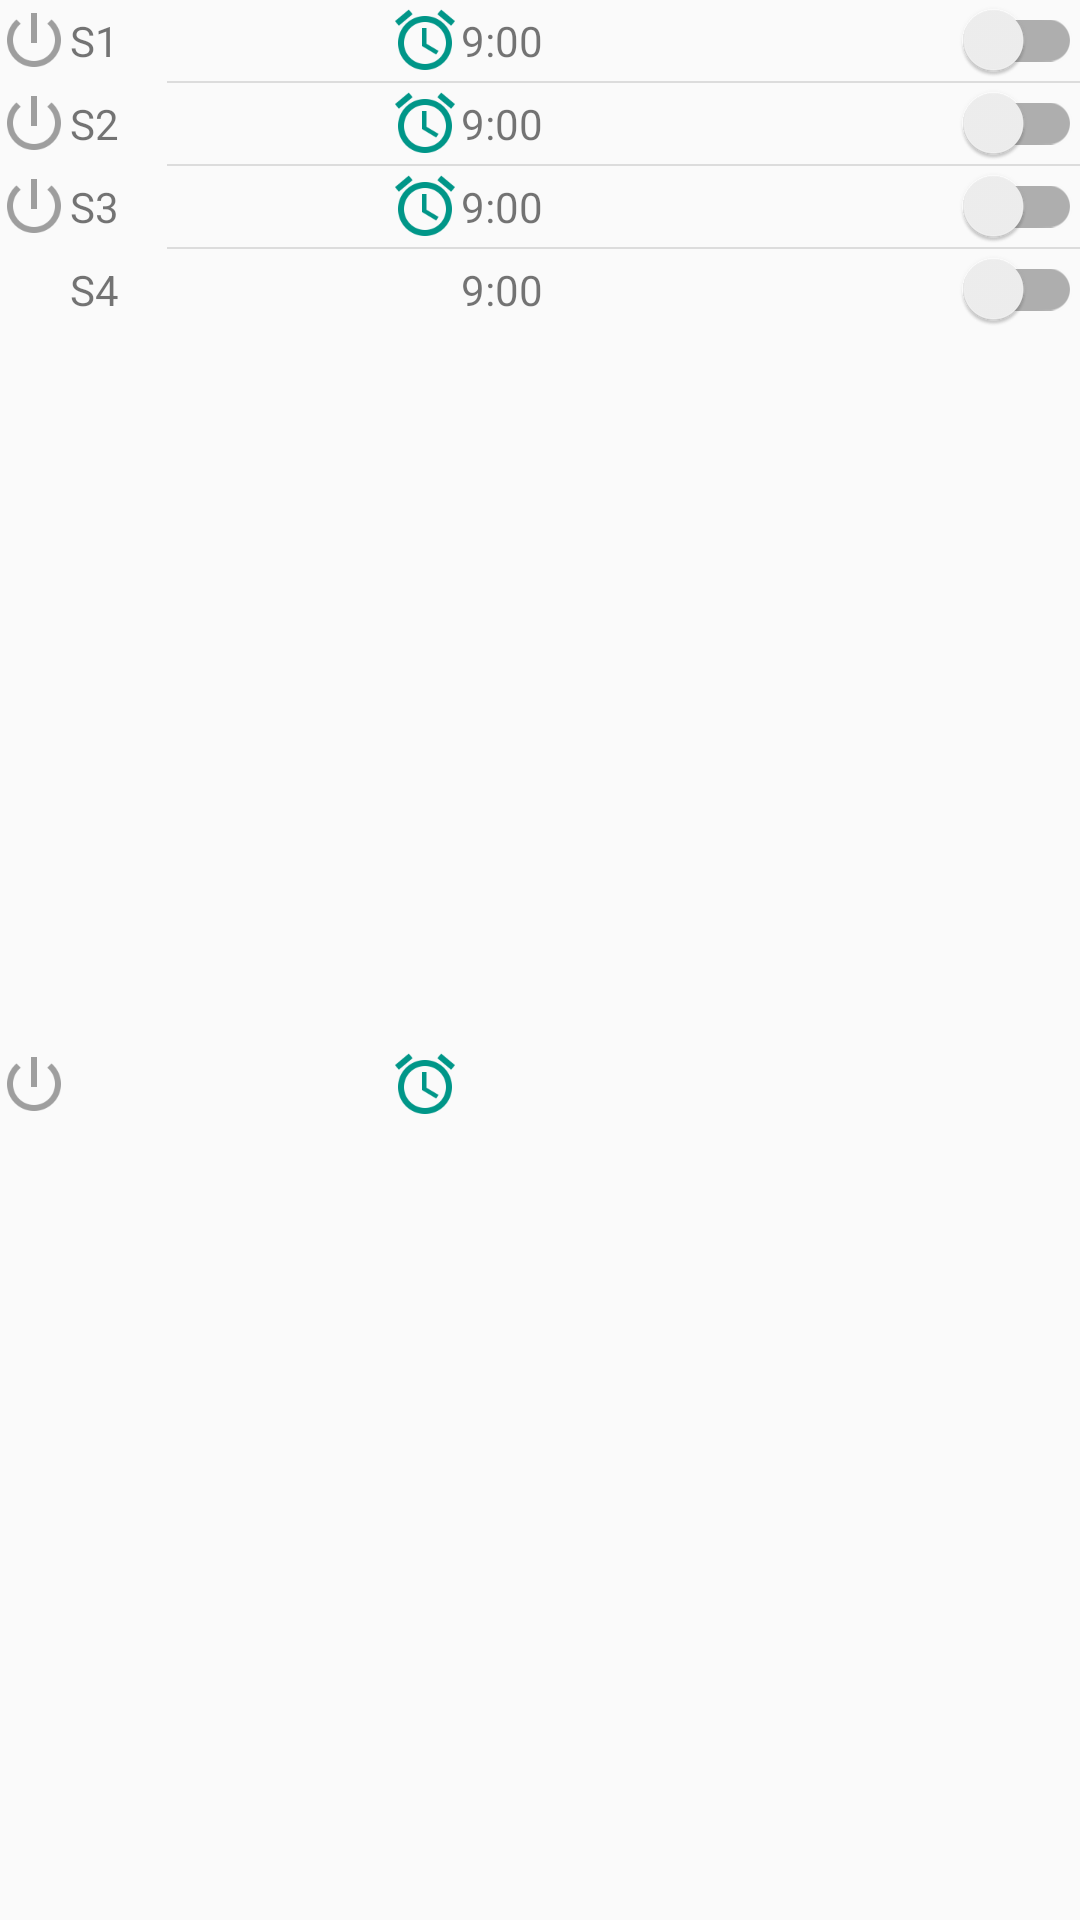

Screen size 1080x1920. Icon name, then its center in pixels as point (x, y):
alarm: point (425, 39), point (425, 122), point (425, 205), point (425, 1083)
power settings: point (34, 40), point (34, 123), point (34, 206), point (34, 1084)
